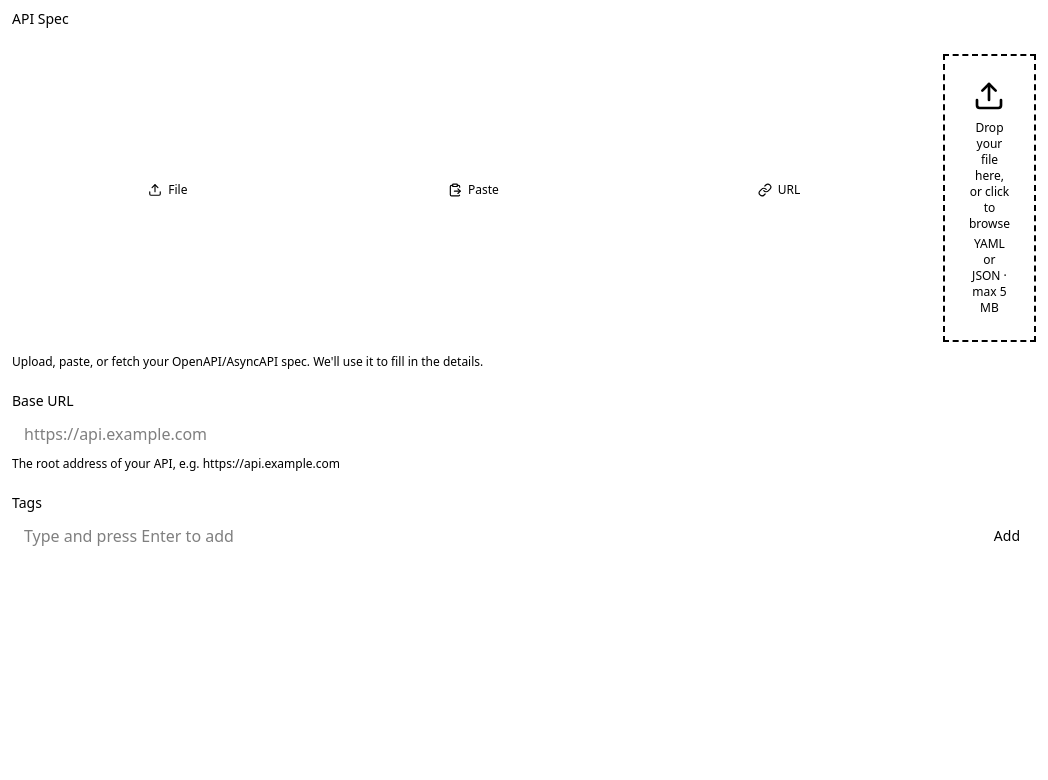
Test: SpecUploadStep - URL Fetch › should disable Fetch button when URL is empty
Step 1. Click the tab "URL" → [779, 190], box [626, 42, 932, 338]
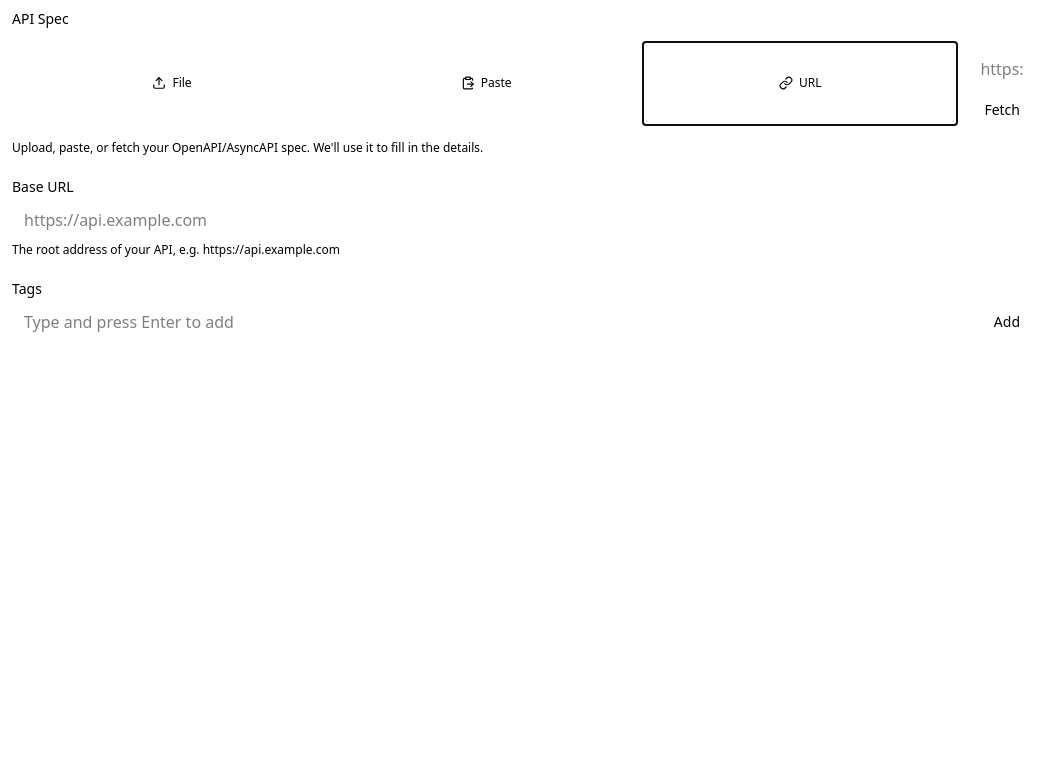
expect the button "Fetch" is disabled: met, box [968, 92, 1036, 128]
